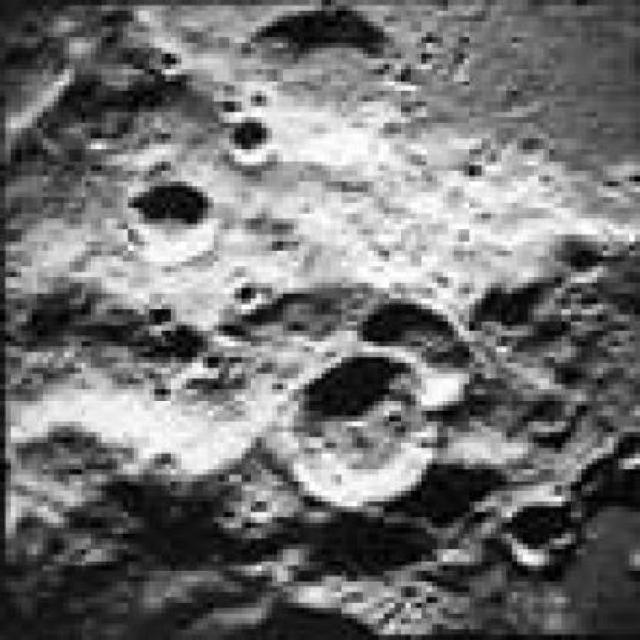crater: (284, 350, 430, 512), (136, 186, 210, 263), (509, 499, 578, 572), (228, 120, 280, 165)
